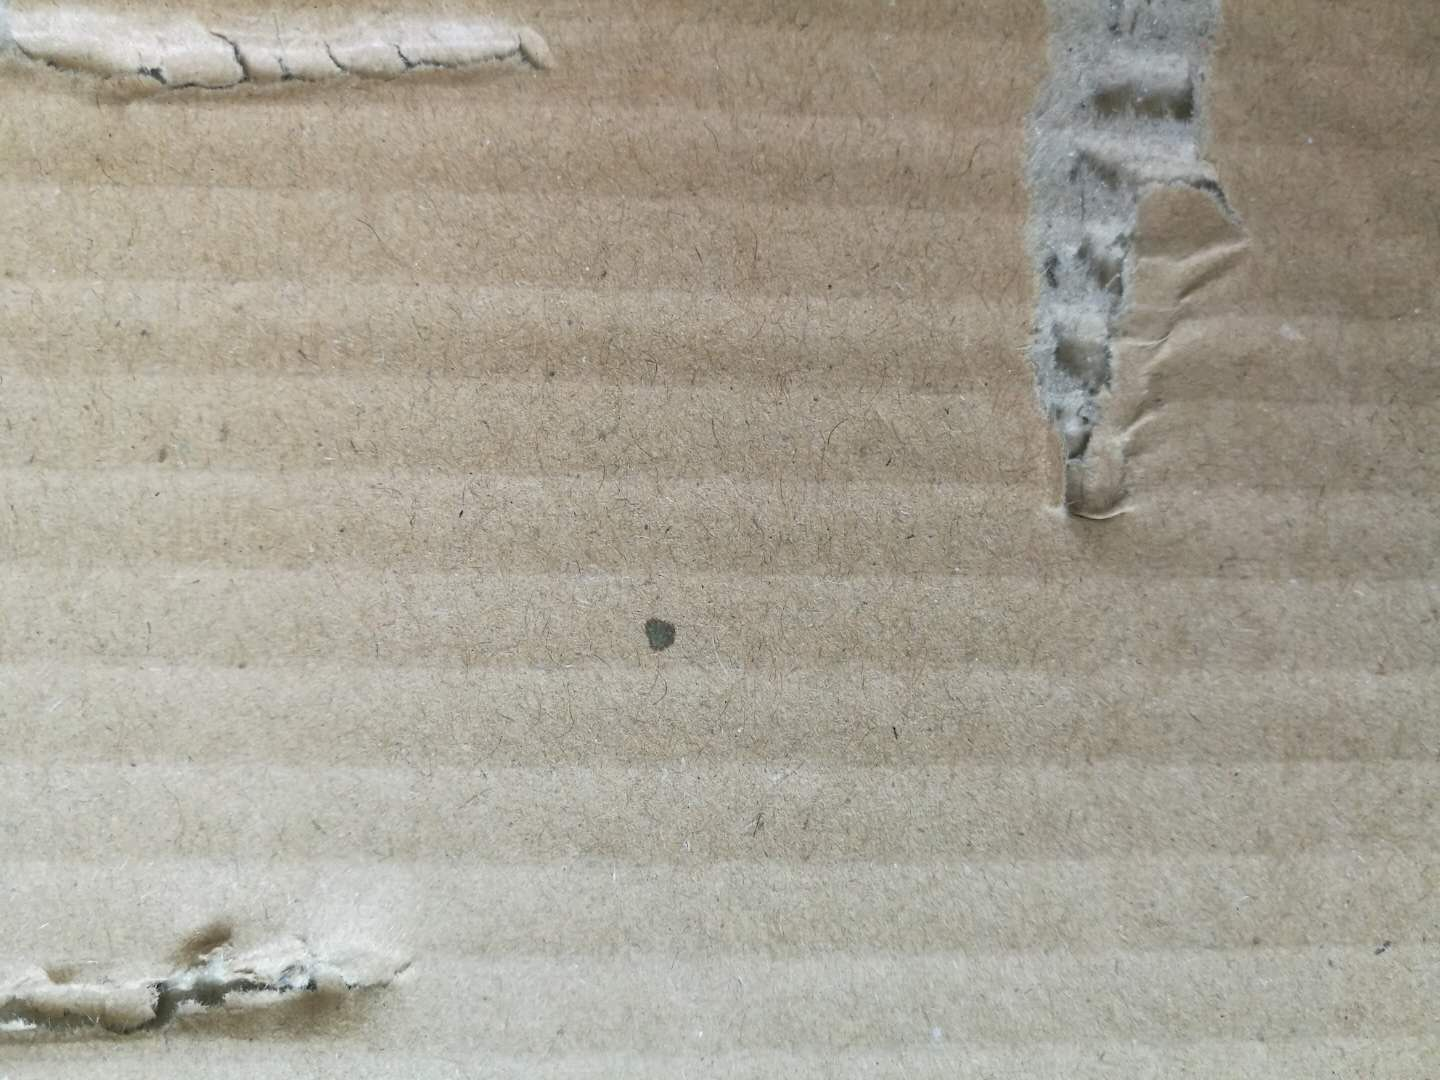defect: (971, 1, 1284, 571), (1, 863, 474, 1073), (2, 1, 588, 134)
